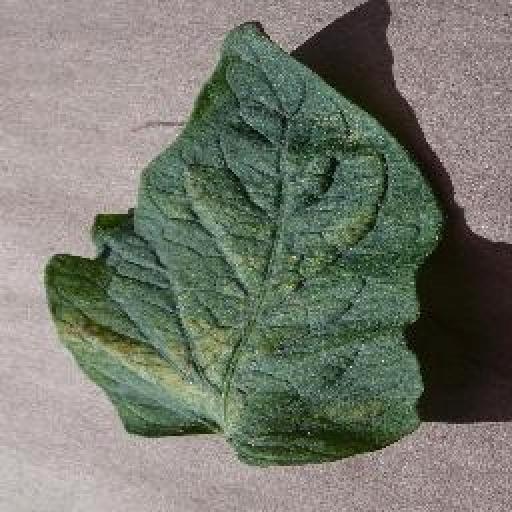disease_tomato: (46, 20, 444, 468)
